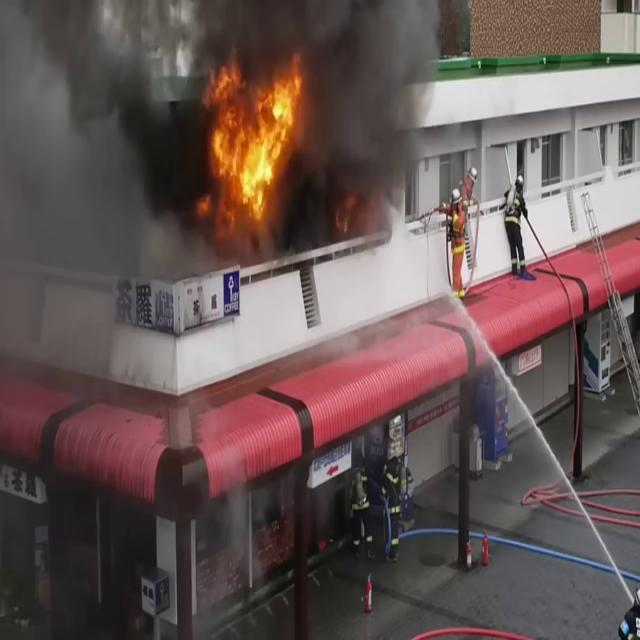Fire: (198, 53, 308, 226)
Smoke: (0, 0, 205, 334), (274, 0, 446, 245)
